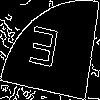E: (24, 25, 61, 78)
